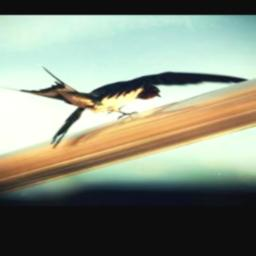Swallow: (0, 64, 253, 149)
